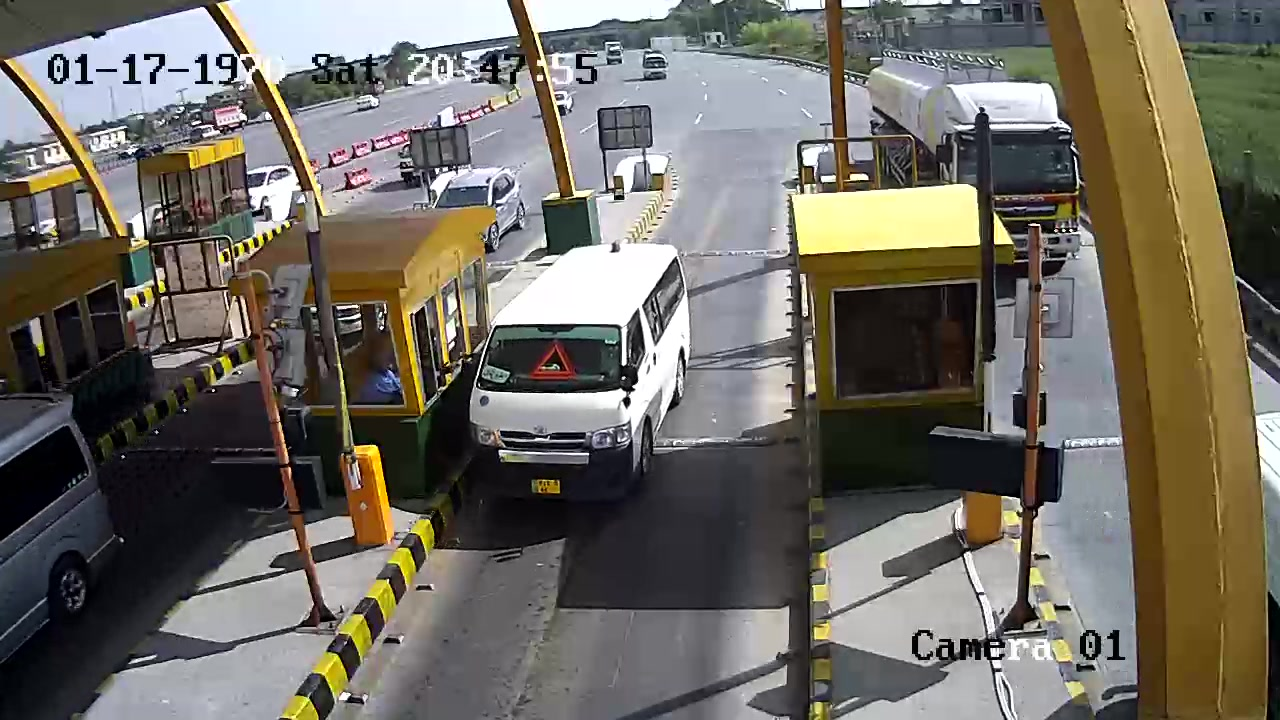F3: (467, 236, 695, 507)
